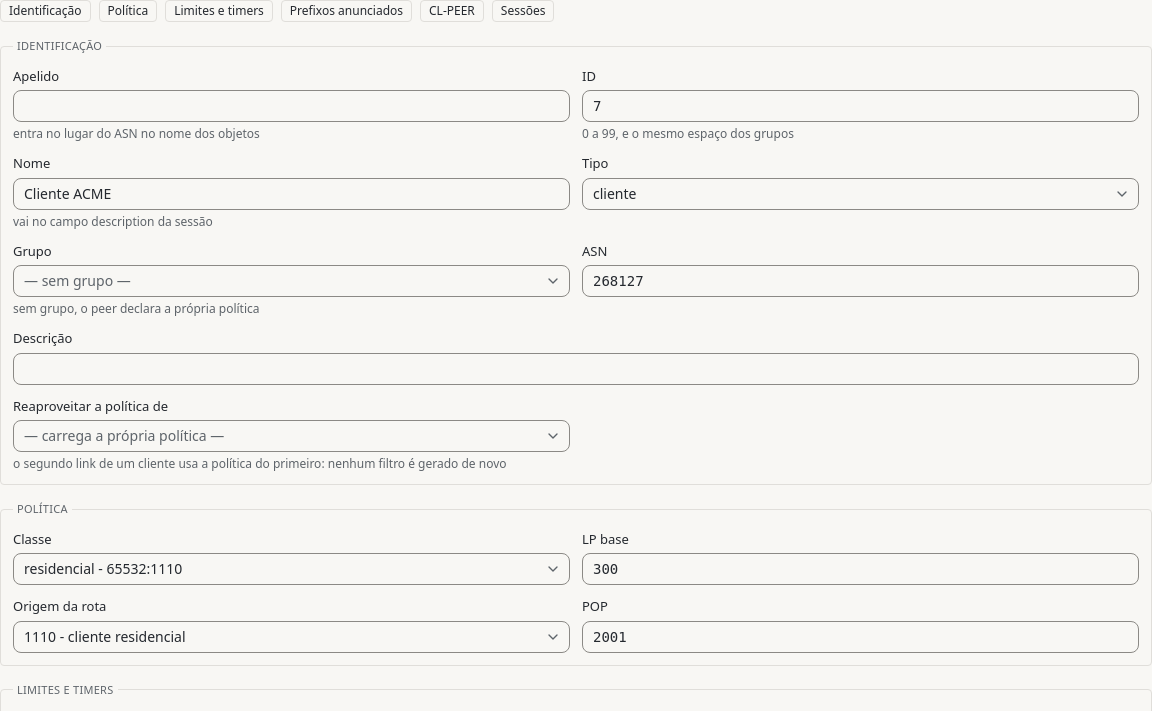
Test: o formulario do peer › entrar num grupo por engano e voltar devolve a tabela e a default do peer
Click the dropdown labelled "grupo" at (77, 280), box 13,265 -> 570,297
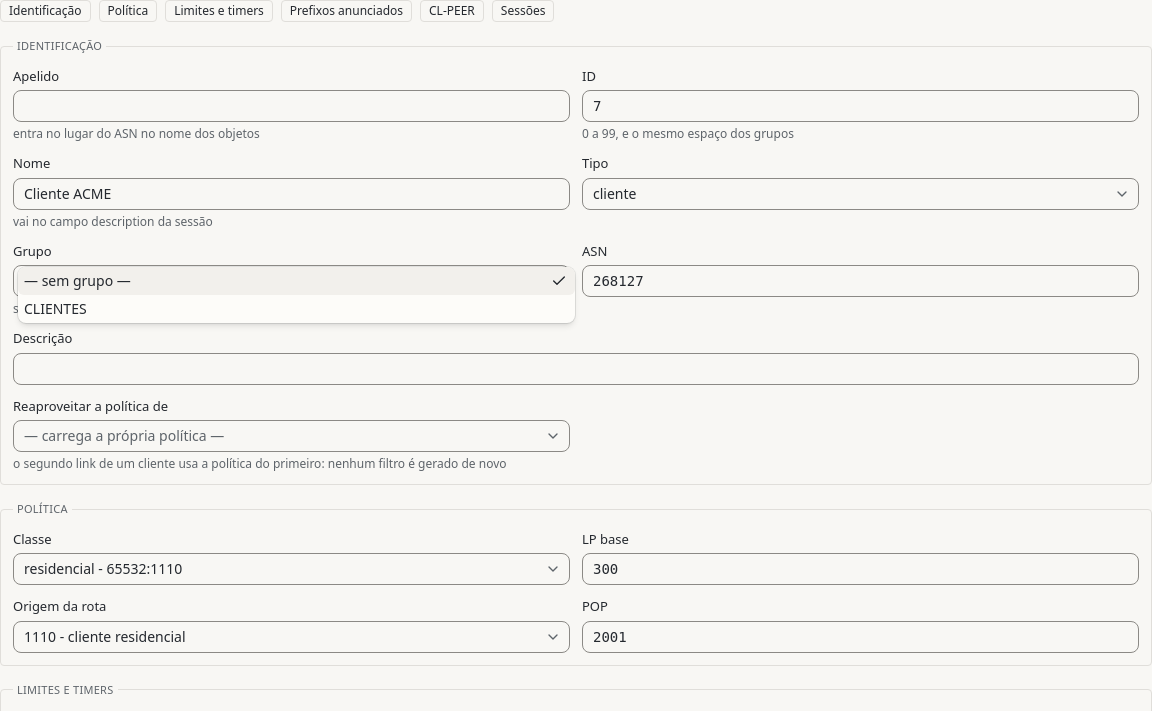
Click the option "CLIENTES" at (55, 308), box 24,299 -> 87,318
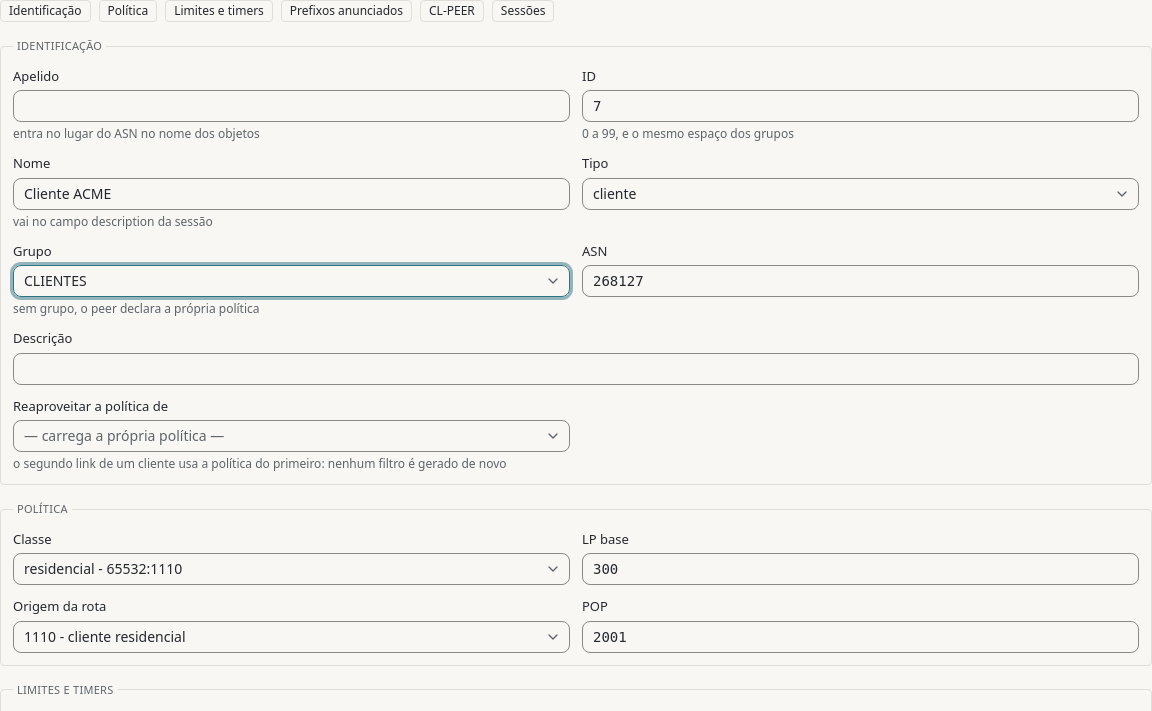
Expected: the field labelled "Tabela recebida" is not shown
Click the dropdown named "Grupo" at (55, 280), box 13,265 -> 570,297
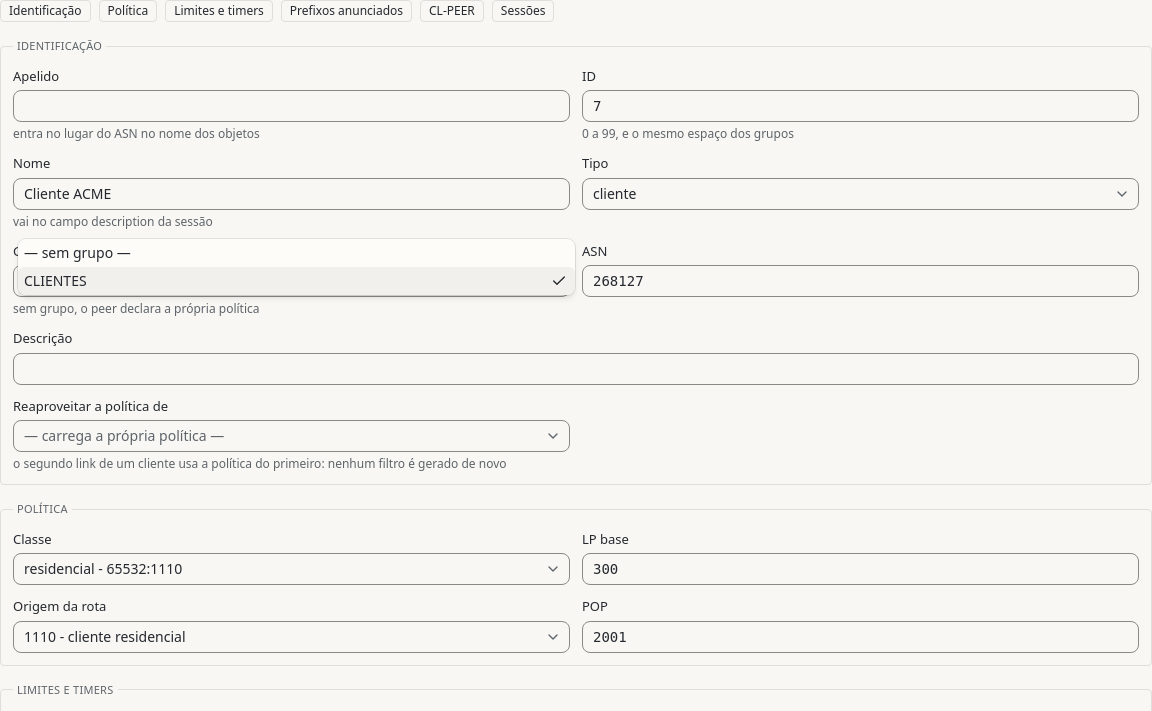
Click the option "— sem grupo —" at (77, 252), box 24,243 -> 131,262
(page scrolled)
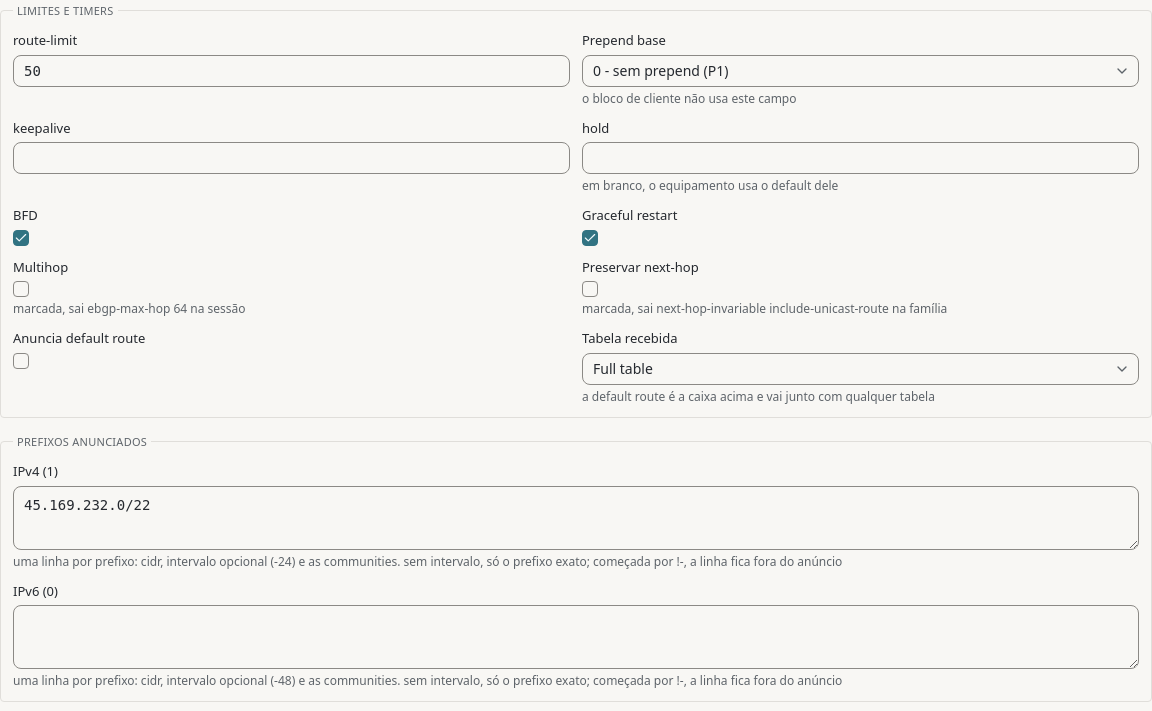
Now the dropdown named "Tabela recebida" shows "Full table", box 582,352 -> 1139,384
Now the checkbox named "Anuncia default route" below "Anuncia default route" is not checked, box 13,352 -> 29,368
